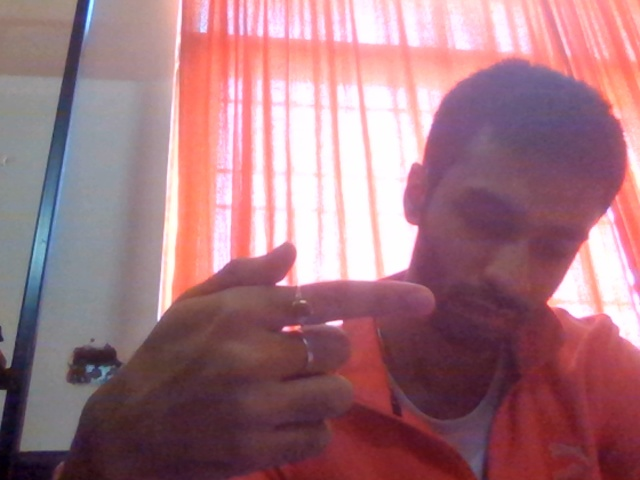G: (58, 222, 450, 472)
